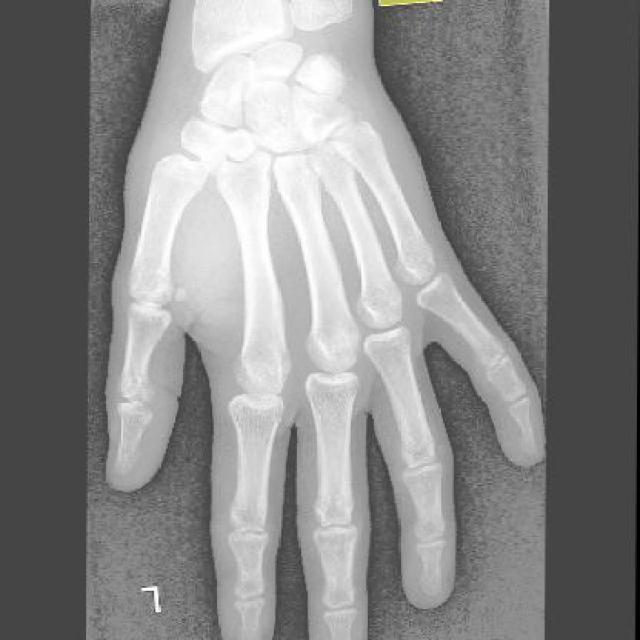Fracture: (194, 125, 244, 173)
